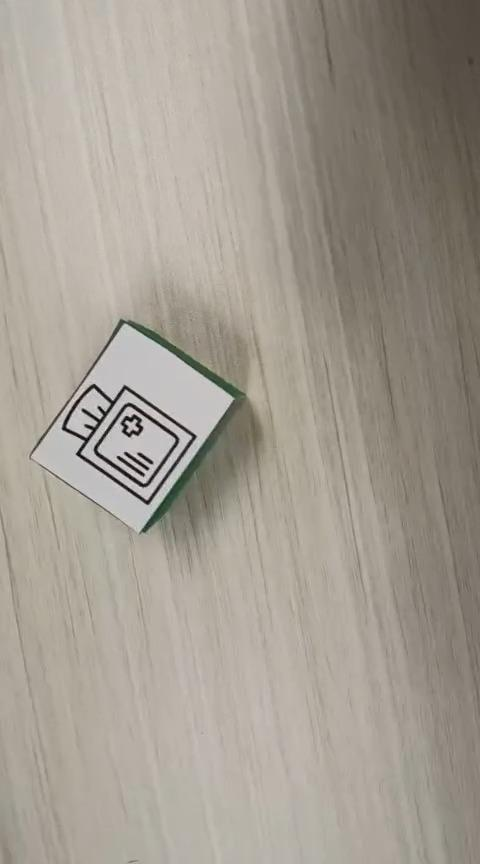Gauze: (28, 316, 246, 535)
